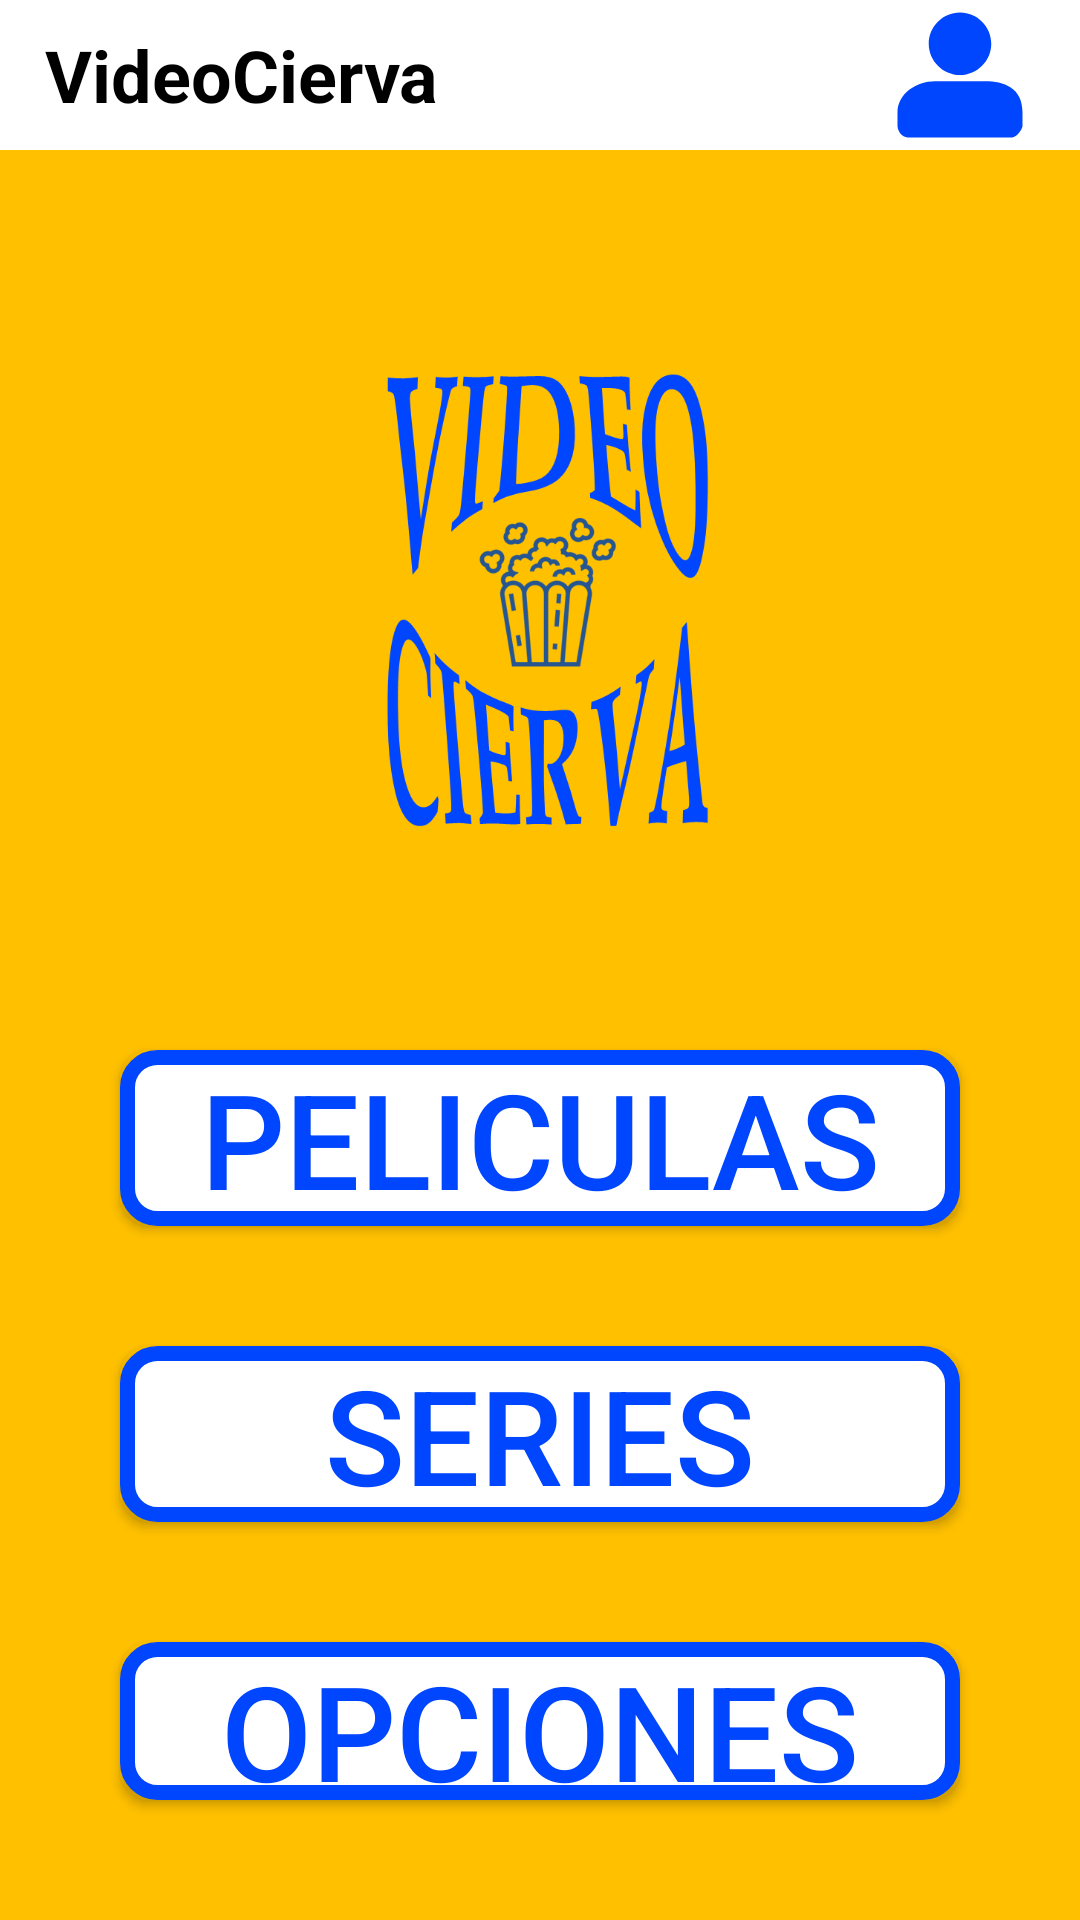

Where icons sit on this 1080×1920 app screen, as (x1, y1, x2, y2):
perfil: (897, 12, 1023, 138)
